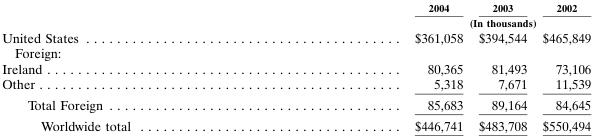table: (1, 0, 590, 132)
table column: (1, 0, 271, 132), (271, 0, 470, 132), (470, 0, 534, 132), (534, 0, 590, 132)
table column header: (1, 0, 590, 28)
table projected row header: (1, 44, 590, 60)
table row: (1, 93, 590, 114), (1, 75, 590, 93), (1, 114, 590, 132), (1, 28, 590, 44), (1, 44, 590, 60), (1, 60, 590, 75), (1, 0, 590, 14), (1, 14, 590, 28)
table spanning cell: (271, 14, 590, 28)
